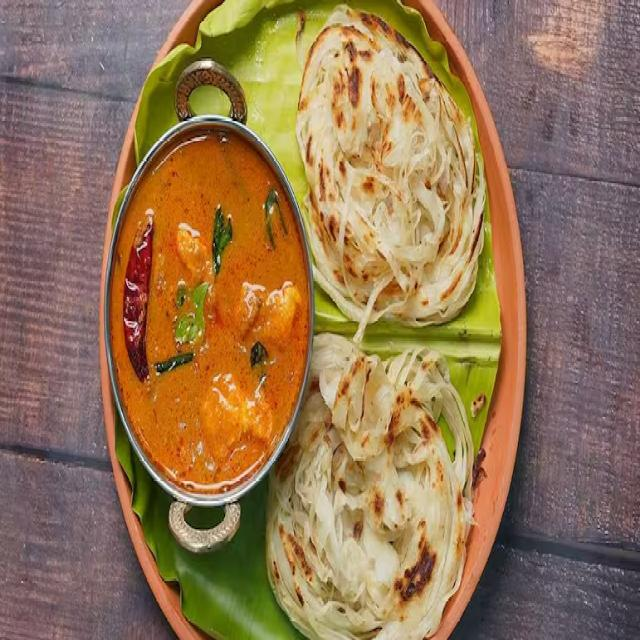KURMA: (105, 122, 317, 540)
PAROTTA: (256, 13, 502, 638)
